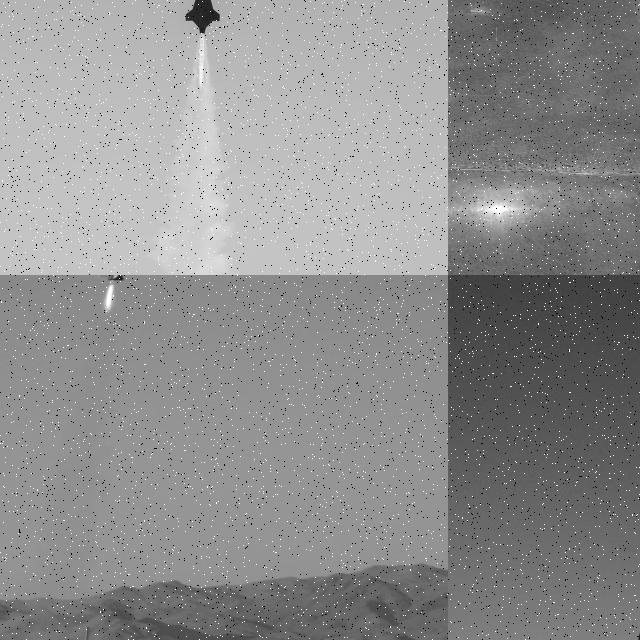Rocket: (185, 0, 220, 35)
